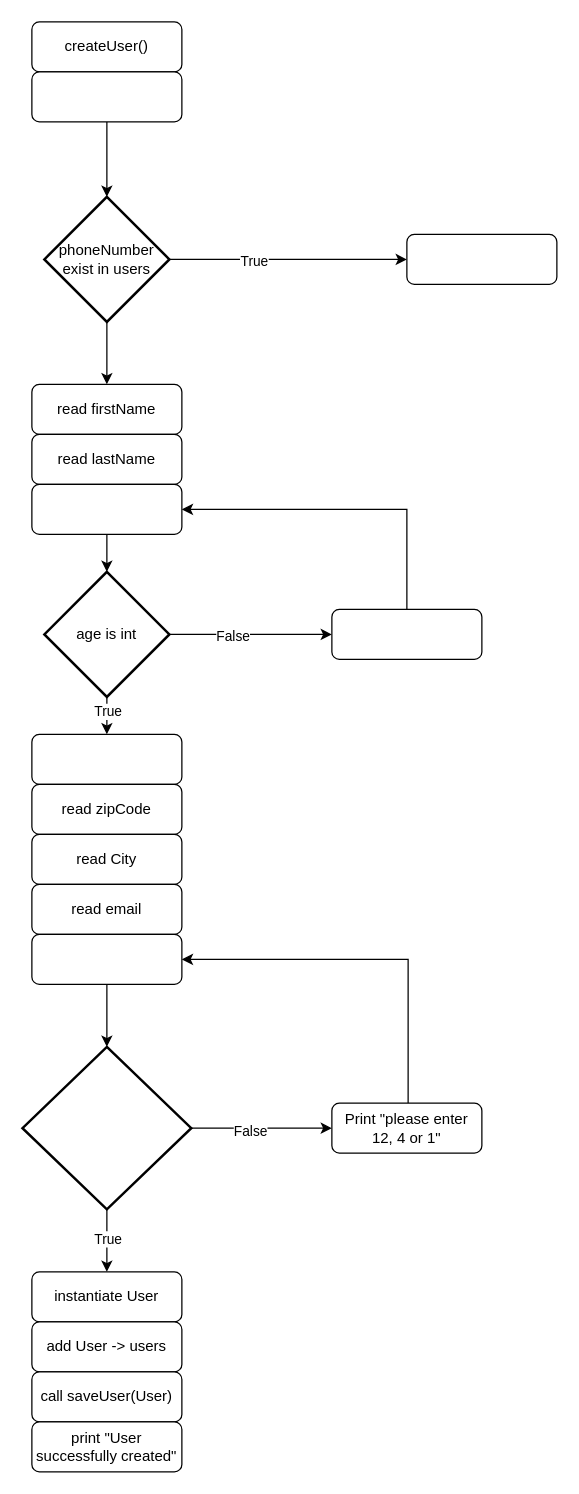
The diagram is 579 pixels wide and 1494 high, and some of its shapes have lost their labels. Each missing label, with the box of its shape:
newsletterFrequency is 12 || 4 || 1: (21, 1045, 192, 1210)
Print "Already exists": (406, 233, 557, 284)
Print "please enter int value, Try again": (331, 608, 482, 659)
read address: (31, 733, 182, 784)
read age: (31, 483, 182, 534)
read newsletterFrequency: (31, 933, 182, 984)
read phoneNumber: (31, 71, 182, 122)
